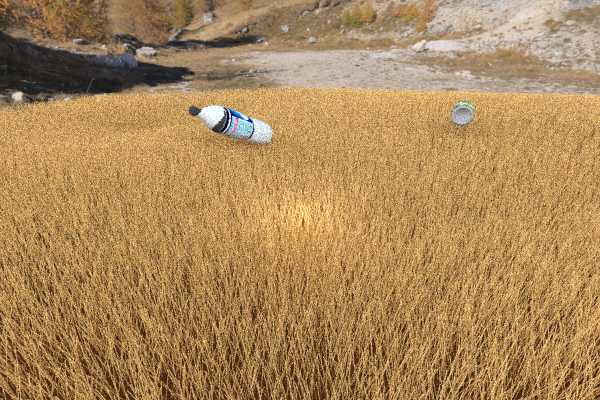Plastic Bottle: (188, 105, 273, 145), (16, 124, 70, 160), (450, 100, 474, 126)
